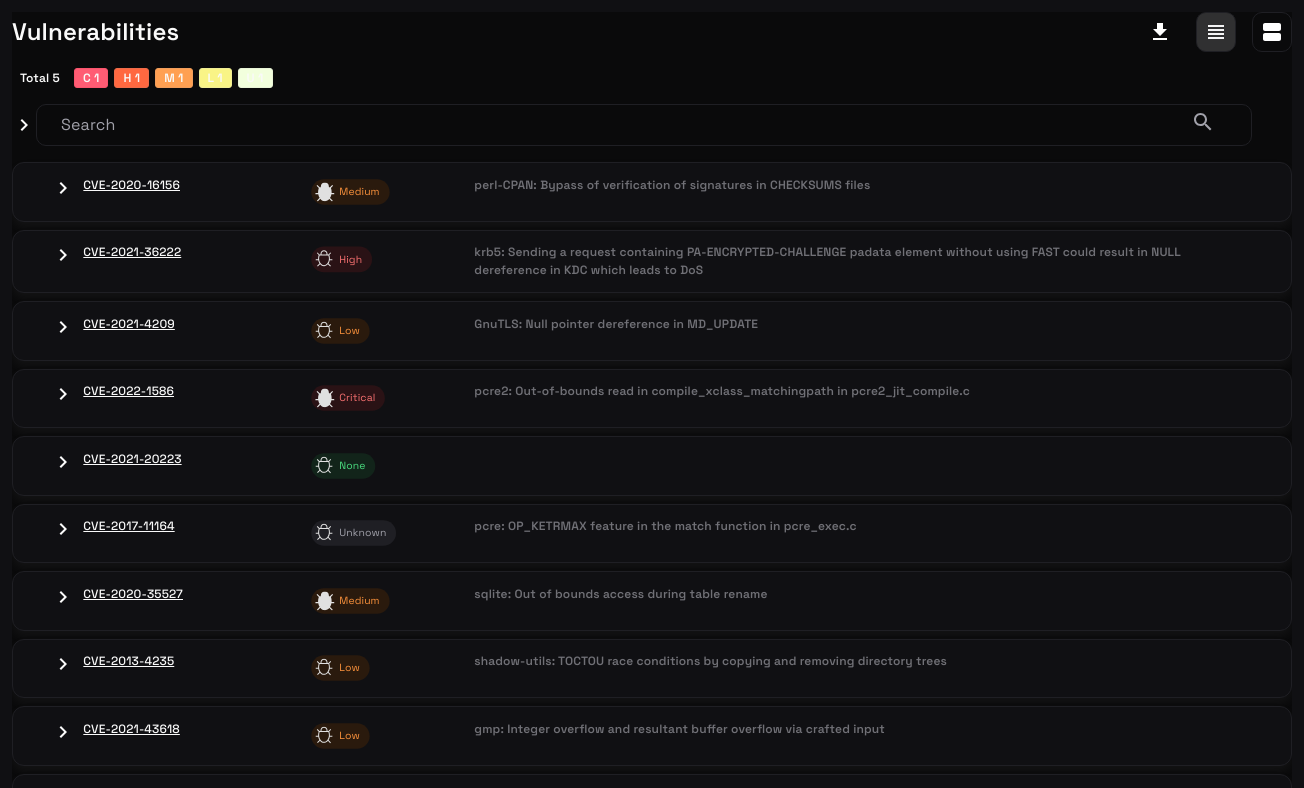
Test case: Vulnerabilties page › should log an error when data can't be fetched for downloading
Expected: the text "Vulnerabilities" is shown once, [12,14,179,50]
Click the button with test id "DownloadIcon". click: (1160, 32)
box: [1140,12,1180,52]
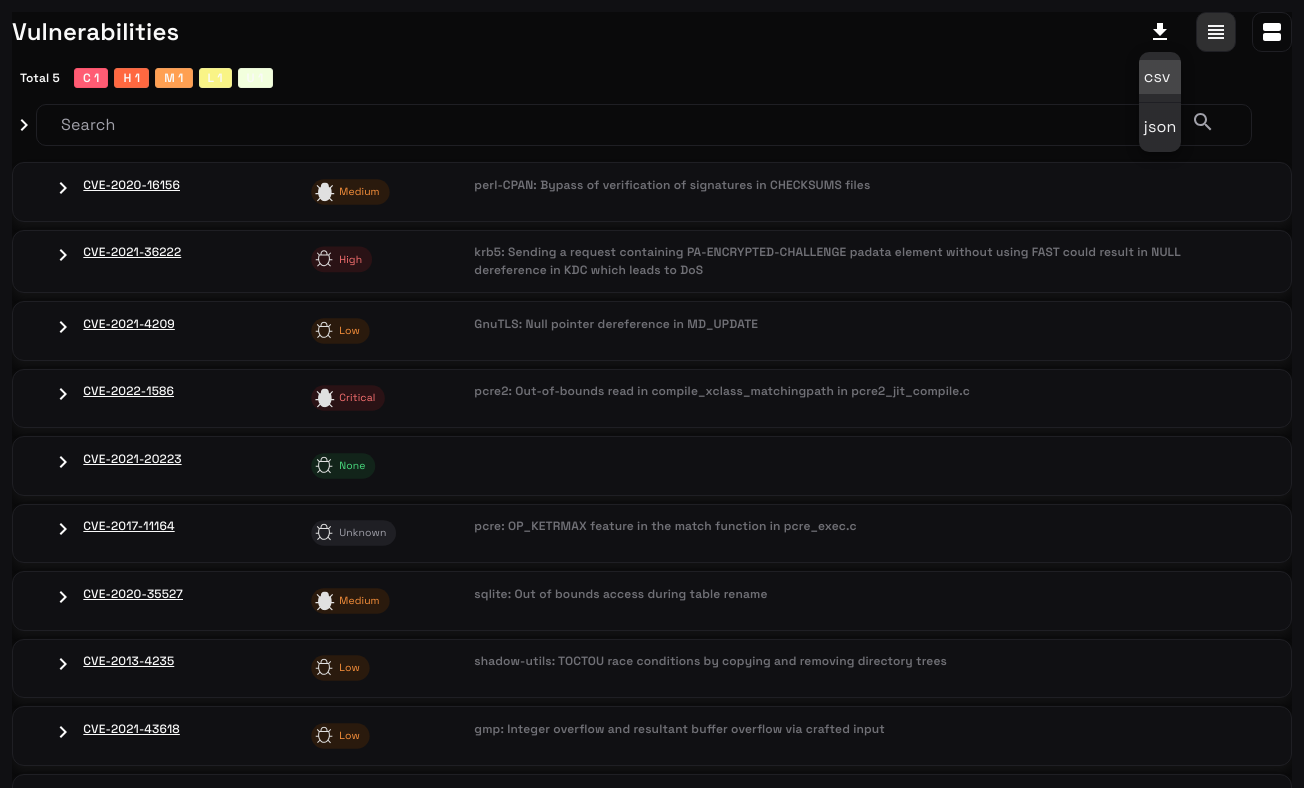
Expected: the menu item with test id "export-csv-menuItem" is shown, [1139,60,1181,94]
Expected: the menu item with test id "export-json-menuItem" is shown, [1144,116,1176,137]
